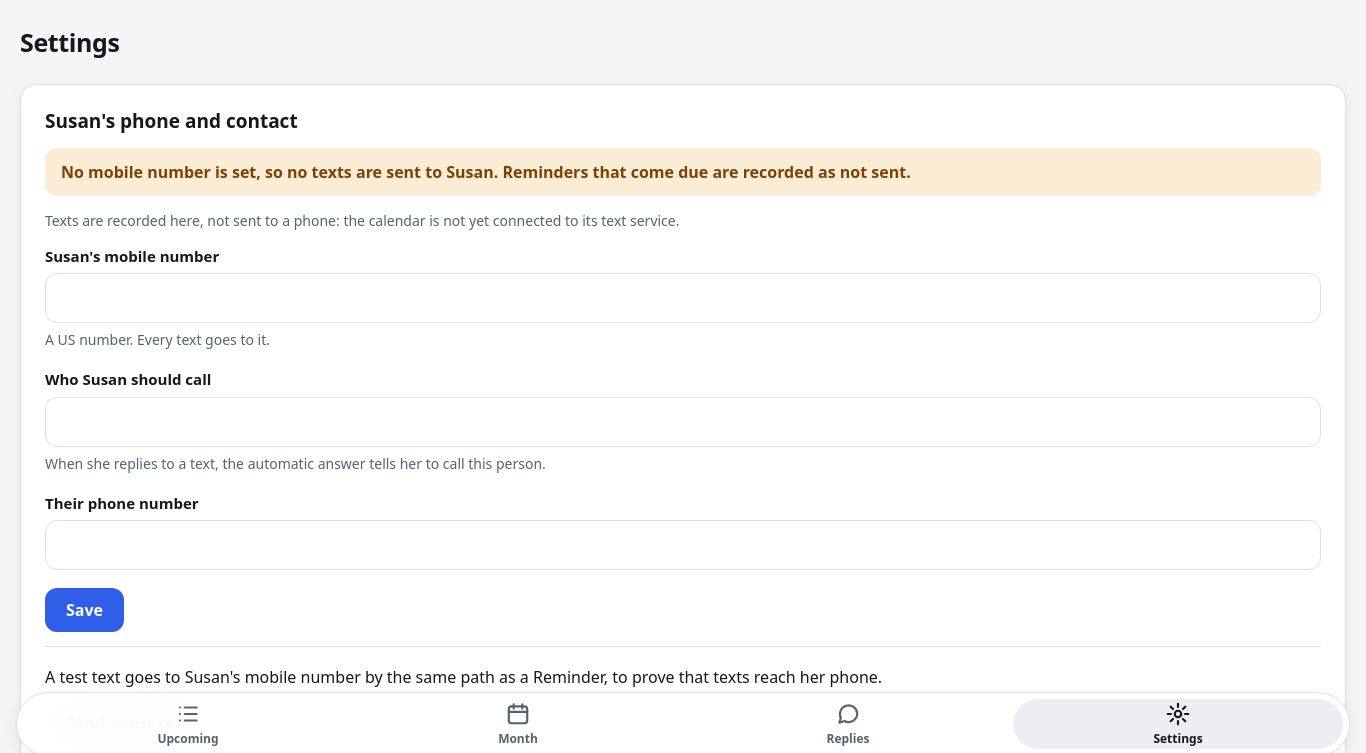
the Susan's phone and contact section of Settings › keeps Susan's number and the contact for the automatic answer
Type "555.555.0123" into the field labelled "Susan's mobile number".
click(683, 298); type("555.555.0123")  # box [45, 273, 1321, 323]
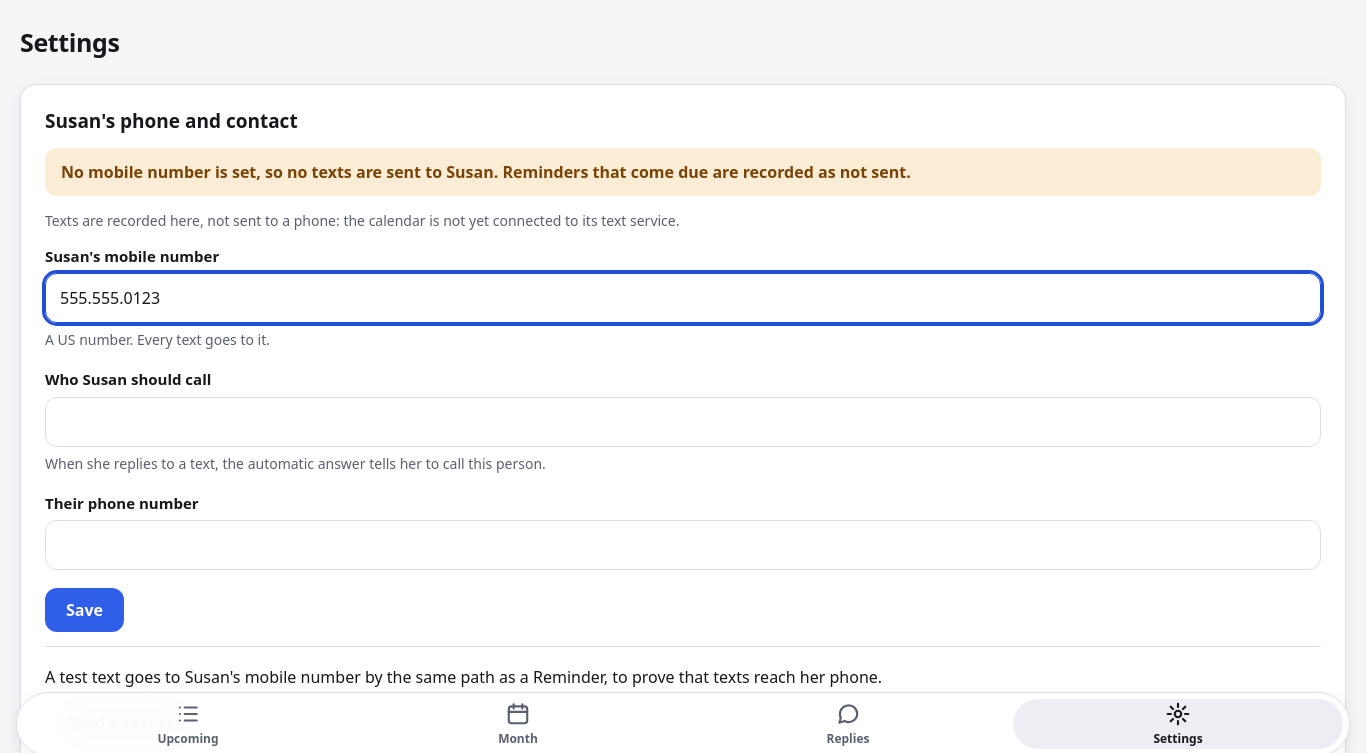
Type "Linda" into the field labelled "Who Susan should call".
click(683, 422); type("Linda")  # box [45, 397, 1321, 447]
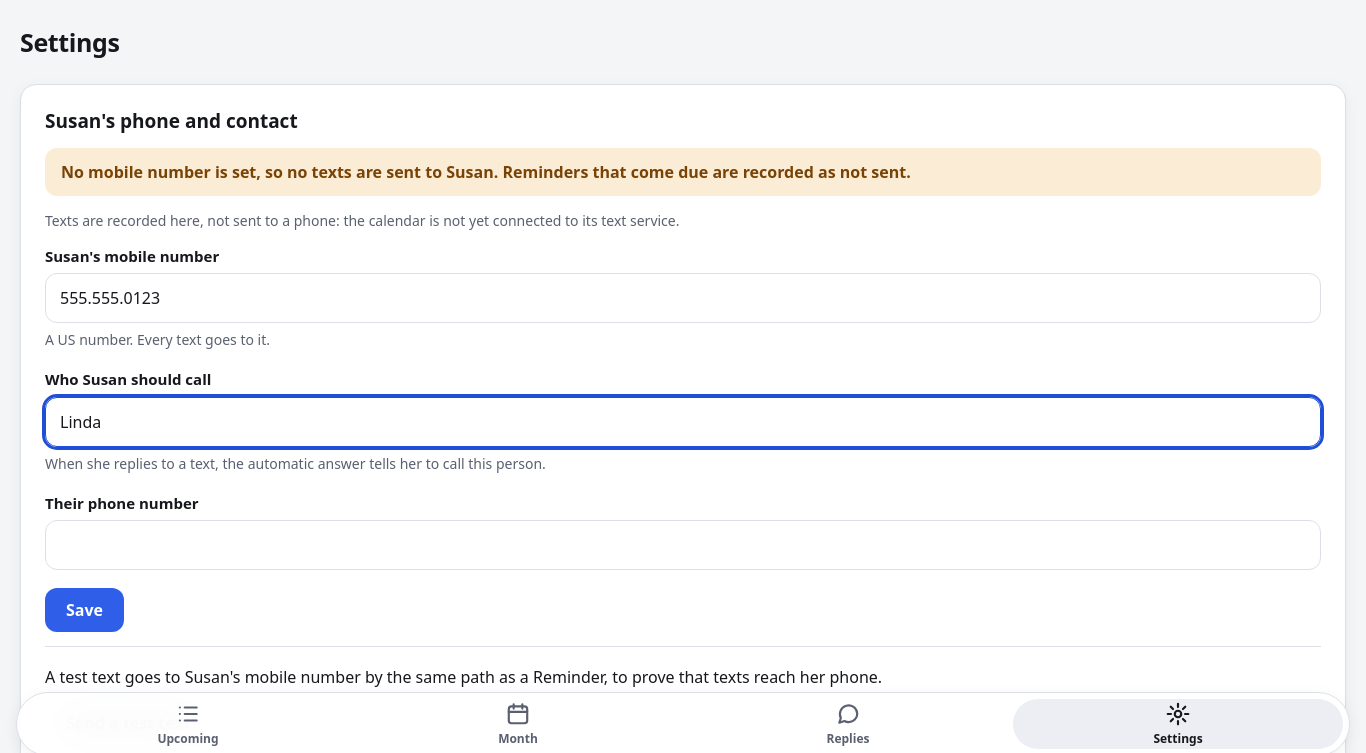
Type "5555550187" into the field labelled "Their phone number".
click(683, 545); type("5555550187")  # box [45, 520, 1321, 570]
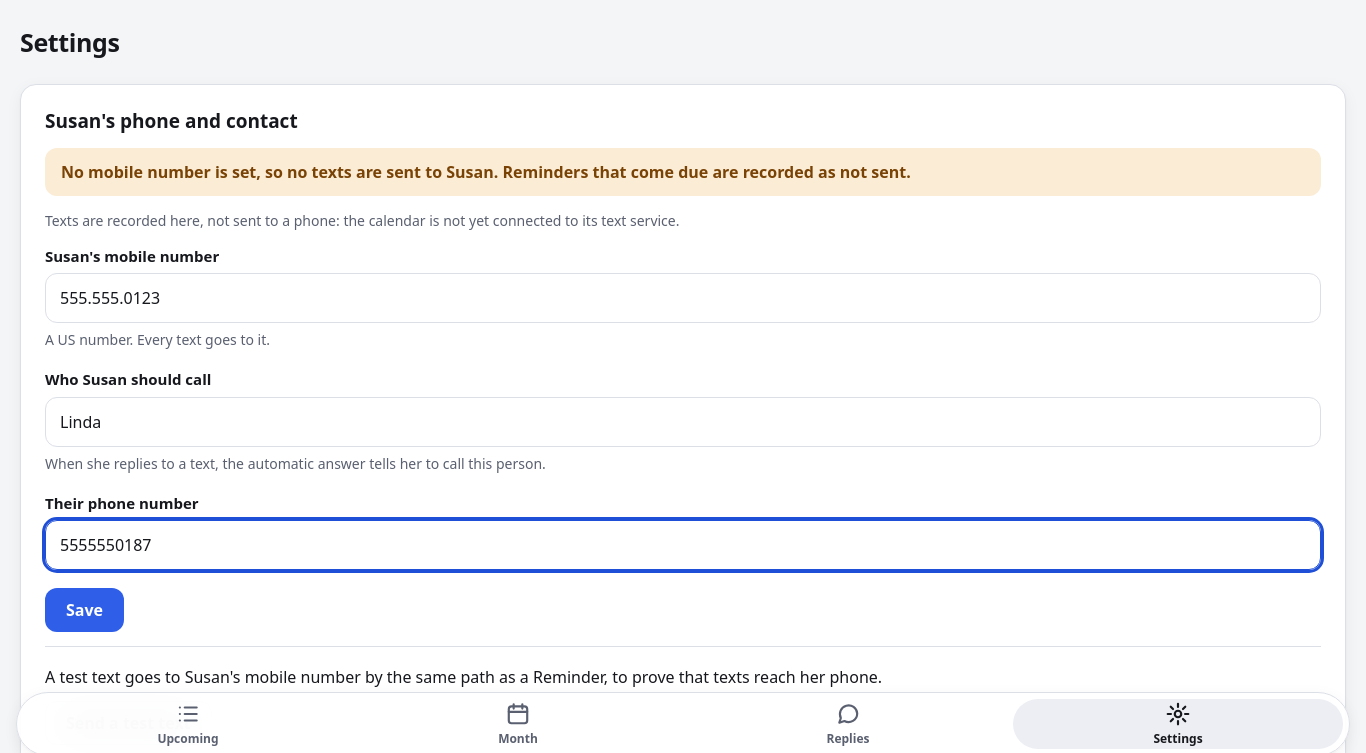
Click the button "Save".
click(84, 610)  # box [45, 588, 124, 632]
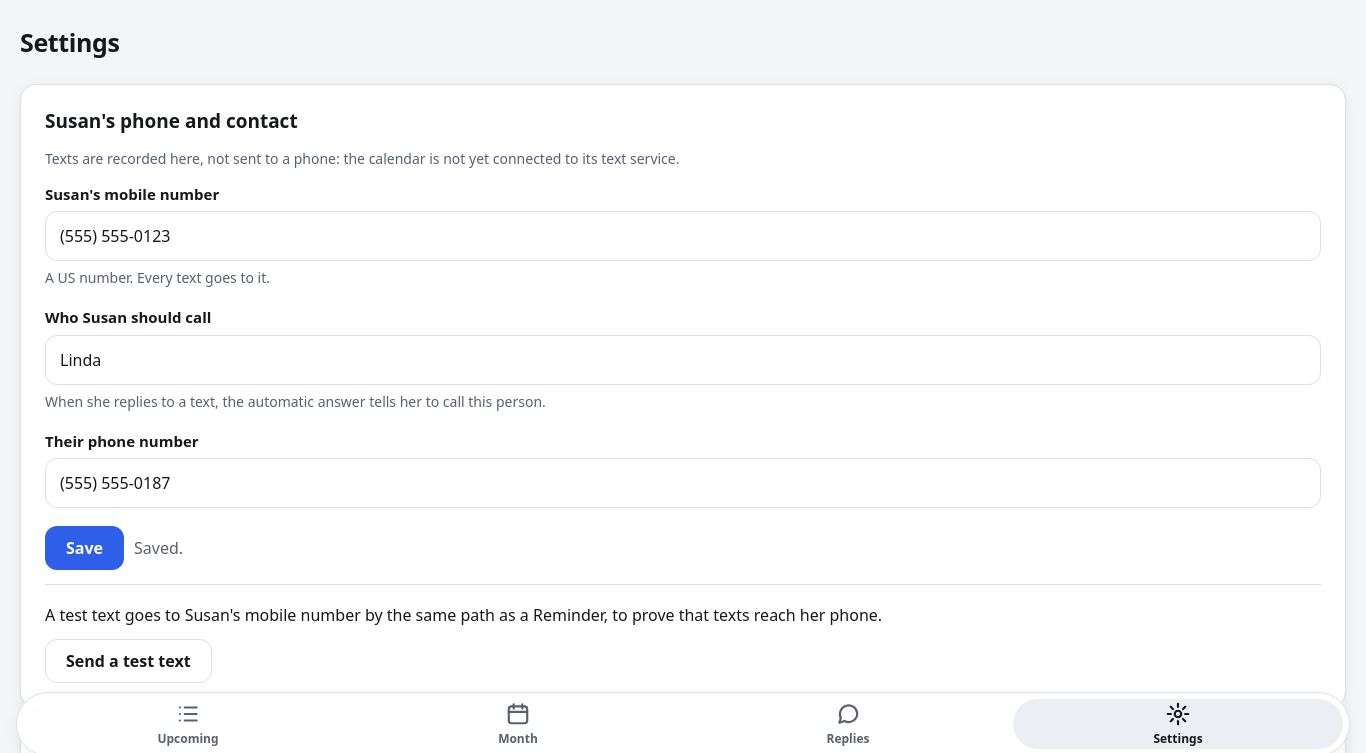
Check: the message reads "Saved.", box [134, 537, 183, 559]
Check: the field labelled "Susan's mobile number" holds "(555) 555-0123", box [45, 211, 1321, 261]
Check: the field labelled "Their phone number" holds "(555) 555-0187", box [45, 458, 1321, 508]
